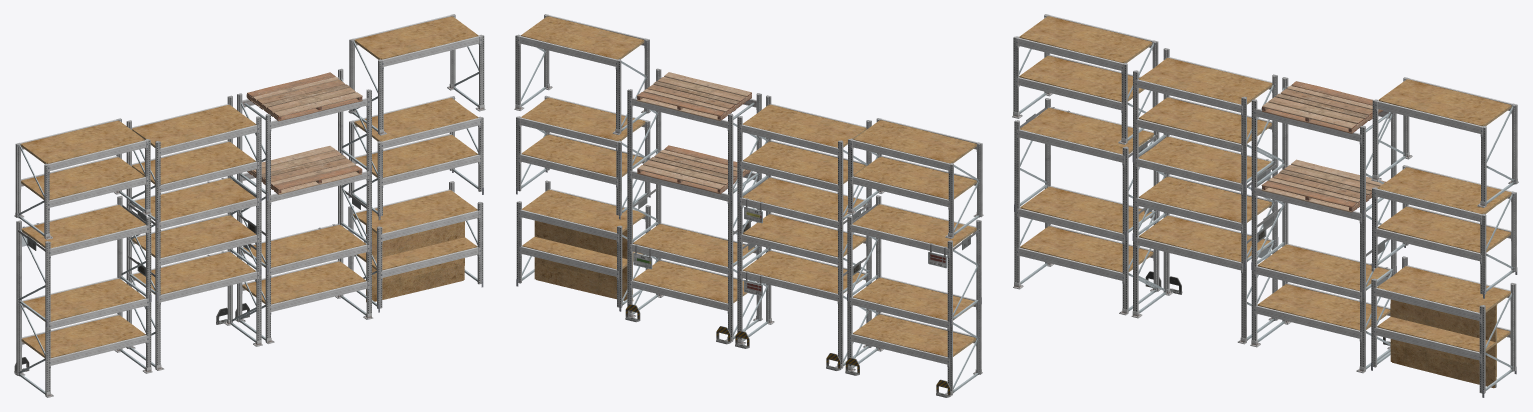
The model's file is Shelves.fbx.
The picture shows the model from 3 angles, left to right: view 1: azimuth 30°, elevation 25°; view 2: azimuth 150°, elevation 25°; view 3: azimuth 330°, elevation 25°; orthographic projection. The views are drawn at different scales.
Visible parts, largest first — view 1: SM_StorageShelves_group02.mo, SM_StorageShelves_group03.mo, SM_StorageShelves_group06.mo, SM_StorageShelvesTop04-Divider.mo, SM_StorageShelvesBottom04.mo, SM_StorageShelvesMiddle04.mo, SM_StorageShelvesBottom01.mo; view 2: SM_StorageShelves_group02.mo, SM_StorageShelves_group03.mo, SM_StorageShelves_group06.mo, SM_StorageShelvesTop04-Divider.mo, SM_StorageShelvesBottom04.mo, SM_StorageShelvesMiddle04.mo, SM_StorageShelvesBottom01.mo; view 3: SM_StorageShelves_group02.mo, SM_StorageShelves_group03.mo, SM_StorageShelves_group06.mo, SM_StorageShelvesTop04-Divider.mo, SM_StorageShelvesMiddle04.mo, SM_StorageShelvesBottom04.mo, SM_StorageShelvesBottom01.mo.
Part boxes in pixels (x1=…): SM_StorageShelves_group02.mo: x1=126, y1=95, x2=262, y2=370; SM_StorageShelves_group03.mo: x1=235, y1=68, x2=373, y2=343; SM_StorageShelves_group06.mo: x1=14, y1=195, x2=152, y2=397; SM_StorageShelvesTop04-Divider.mo: x1=348, y1=181, x2=483, y2=312; SM_StorageShelvesBottom04.mo: x1=14, y1=118, x2=151, y2=239; SM_StorageShelvesMiddle04.mo: x1=348, y1=96, x2=483, y2=220; SM_StorageShelvesBottom01.mo: x1=348, y1=14, x2=485, y2=135; SM_StorageShelves_group02.mo: x1=735, y1=95, x2=872, y2=370; SM_StorageShelves_group03.mo: x1=625, y1=68, x2=762, y2=344; SM_StorageShelves_group06.mo: x1=845, y1=195, x2=982, y2=397; SM_StorageShelvesTop04-Divider.mo: x1=516, y1=180, x2=650, y2=311; SM_StorageShelvesBottom04.mo: x1=847, y1=118, x2=983, y2=238; SM_StorageShelvesMiddle04.mo: x1=516, y1=95, x2=650, y2=219; SM_StorageShelvesBottom01.mo: x1=514, y1=14, x2=650, y2=134; SM_StorageShelves_group02.mo: x1=1131, y1=48, x2=1278, y2=344; SM_StorageShelves_group03.mo: x1=1250, y1=77, x2=1396, y2=373; SM_StorageShelves_group06.mo: x1=1013, y1=98, x2=1161, y2=315; SM_StorageShelvesTop04-Divider.mo: x1=1371, y1=256, x2=1516, y2=397; SM_StorageShelvesMiddle04.mo: x1=1371, y1=165, x2=1517, y2=298; SM_StorageShelvesBottom04.mo: x1=1012, y1=14, x2=1158, y2=144; SM_StorageShelvesBottom01.mo: x1=1371, y1=77, x2=1518, y2=207.
Size of the model in its own units: 1254 by 694 by 172.
